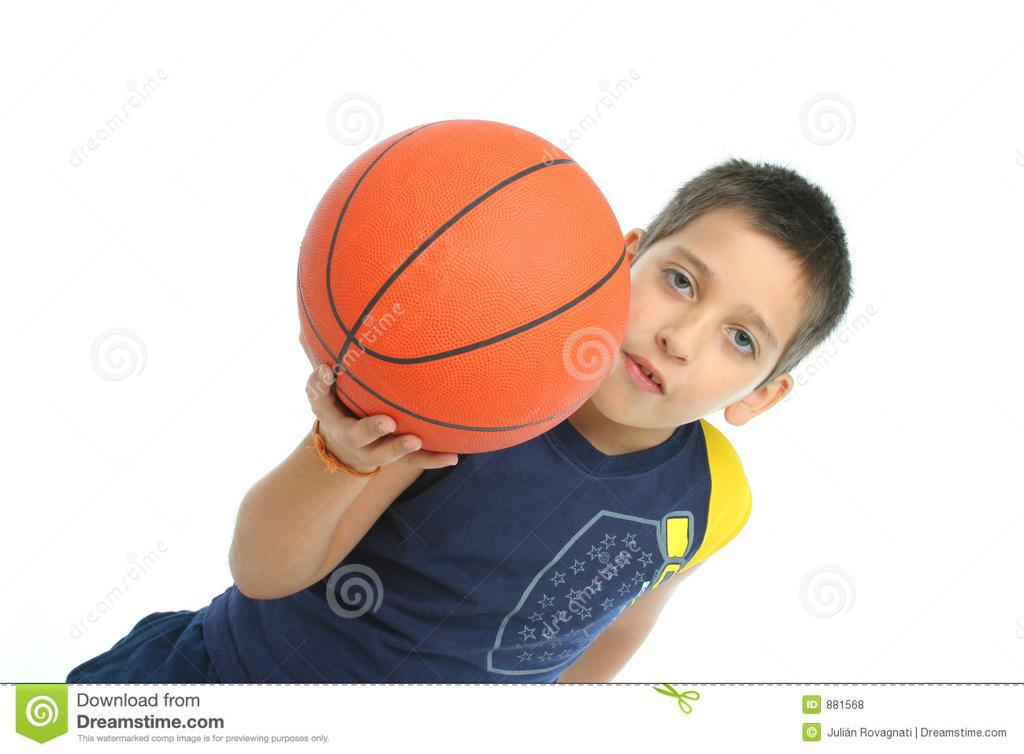face: (587, 203, 847, 431)
